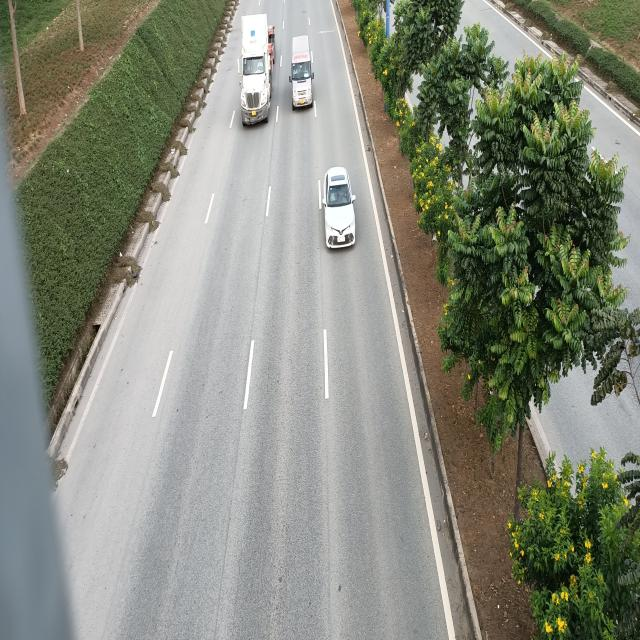car: (322, 166, 358, 250)
container: (241, 12, 277, 124)
van: (290, 37, 314, 113)
